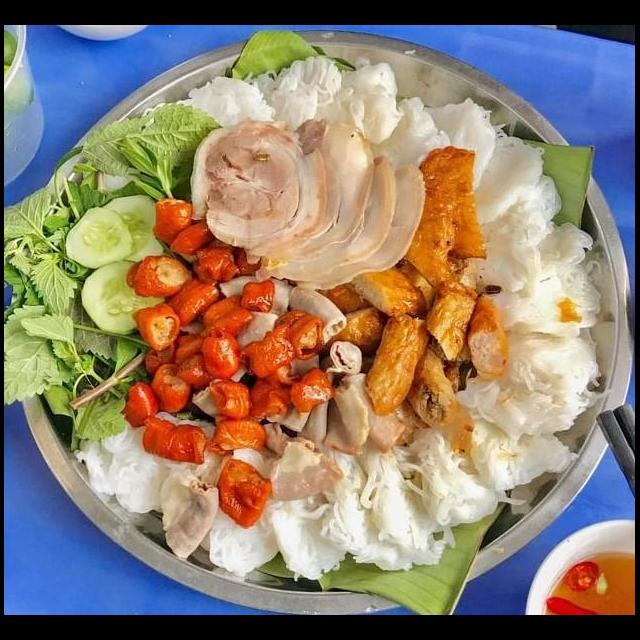bun: (472, 171, 612, 494), (273, 390, 507, 581), (79, 402, 298, 587), (175, 46, 456, 175), (463, 115, 558, 231), (434, 93, 498, 195)
bun dau: (23, 64, 603, 608)
cha com: (338, 262, 524, 457), (406, 143, 491, 291)
thit heo: (186, 111, 430, 290)
